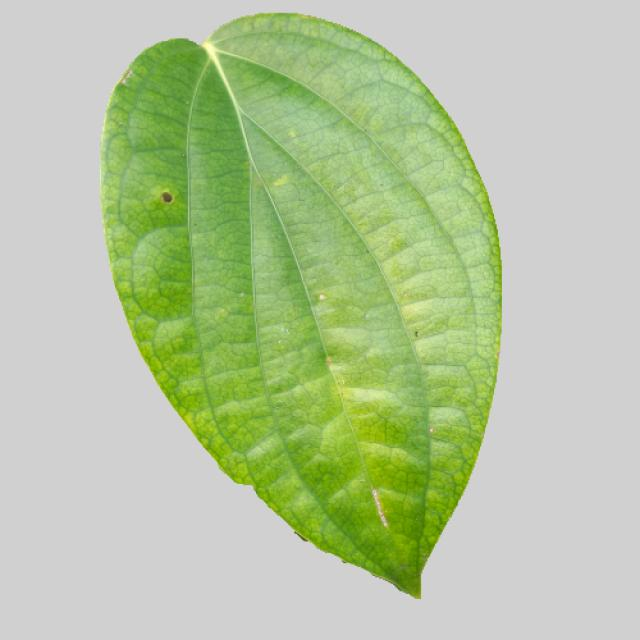healthy: (96, 11, 511, 616)
